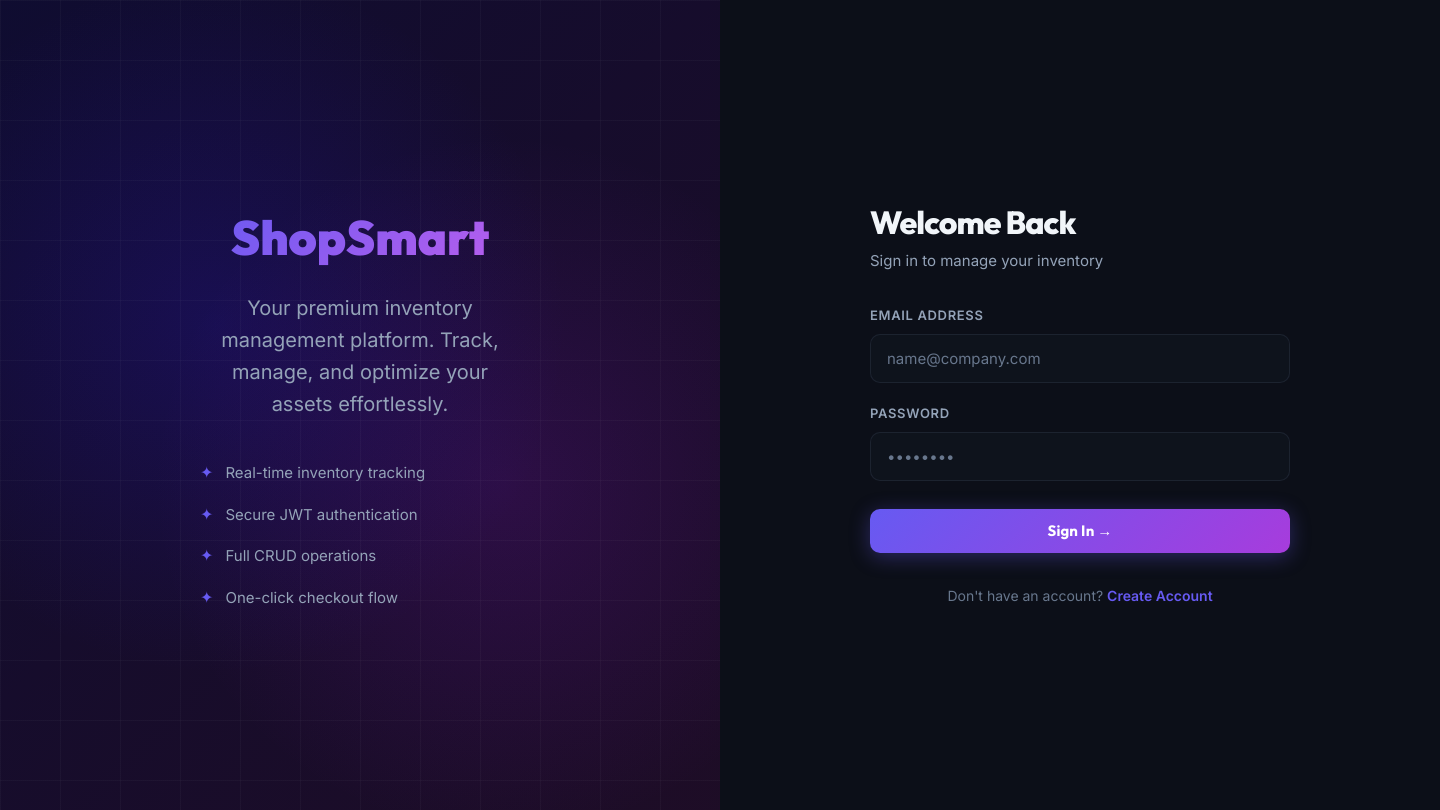
Login Component › displays error on failed login
This screenshot has width=1440, height=810.
In the field labelled "Email Address": (1080, 358) 870,334 -> 1290,383, type "test@example.com"
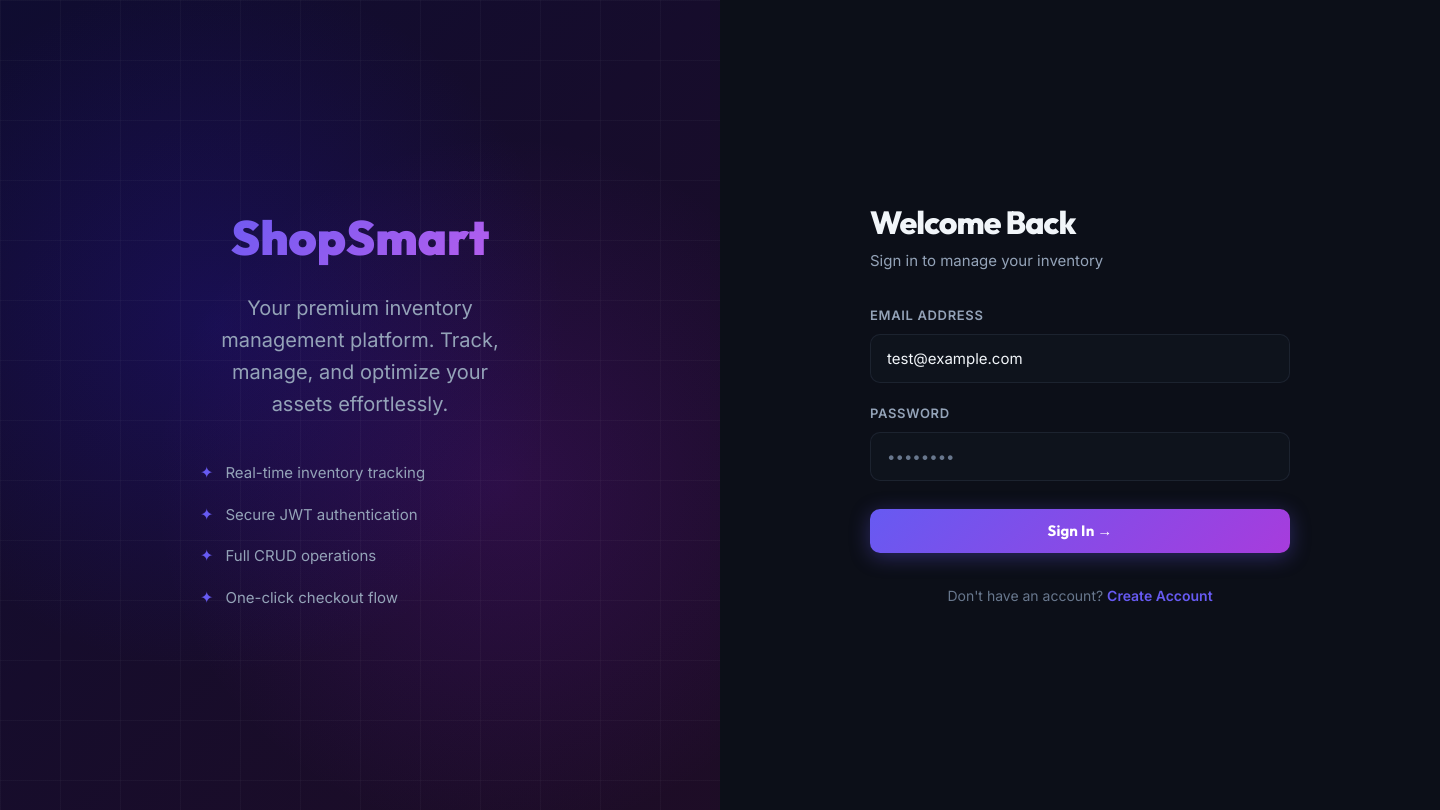
In the password field labelled "Password": (1080, 456) 870,432 -> 1290,480, type "wrongpassword"
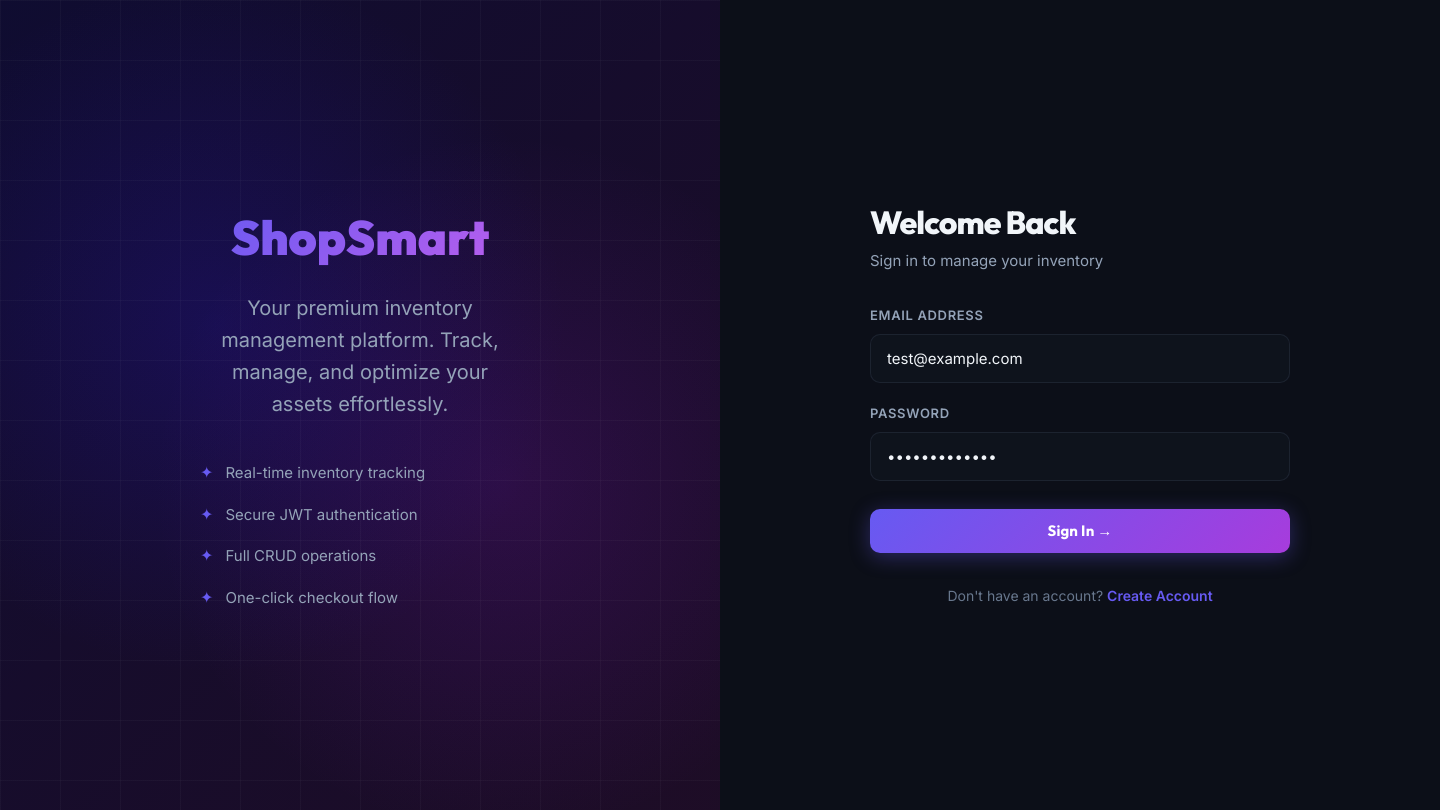
Click the button "Sign In →": (1080, 531) 870,508 -> 1290,553
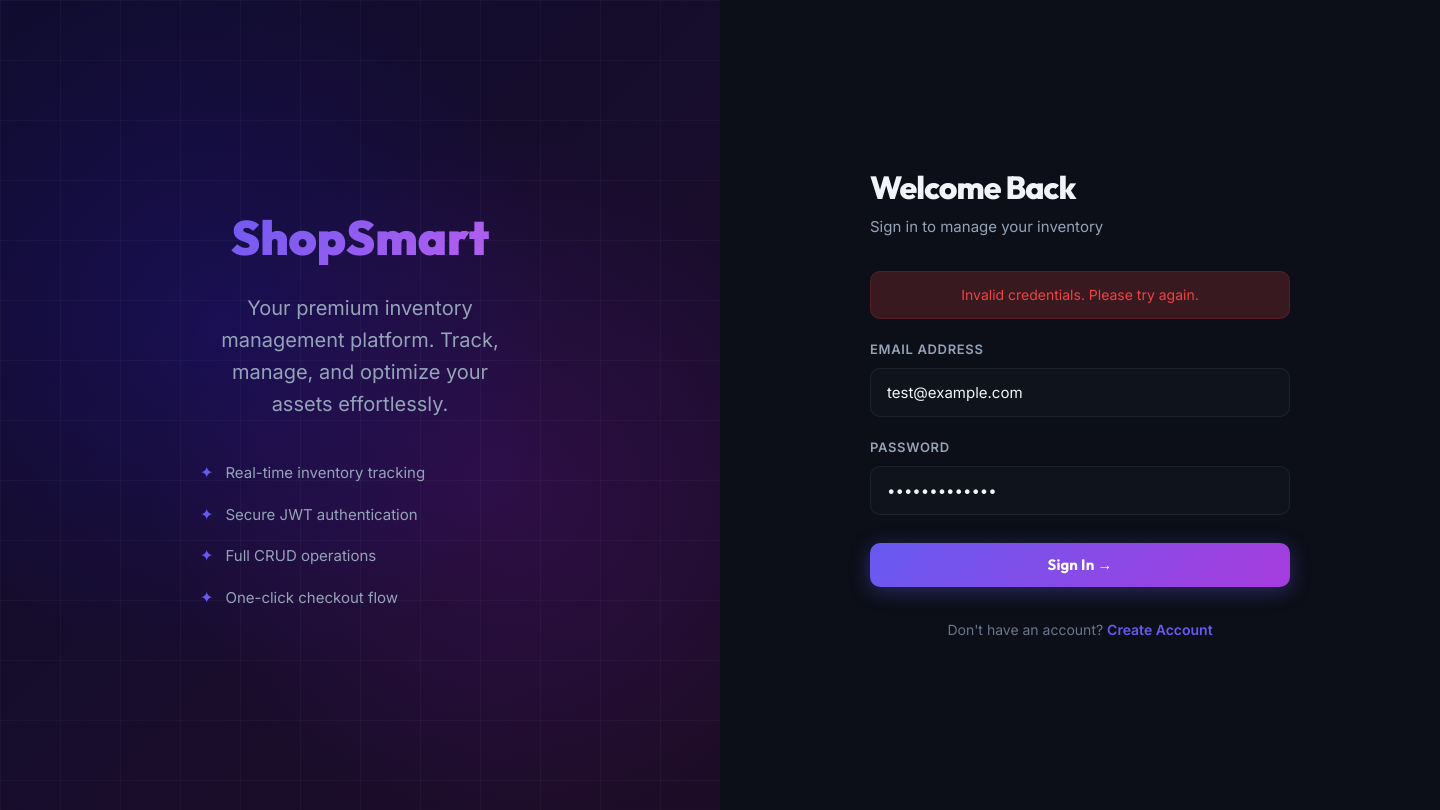
Now the text "Invalid credentials. Please try again." is shown, box 870,271 -> 1290,319
